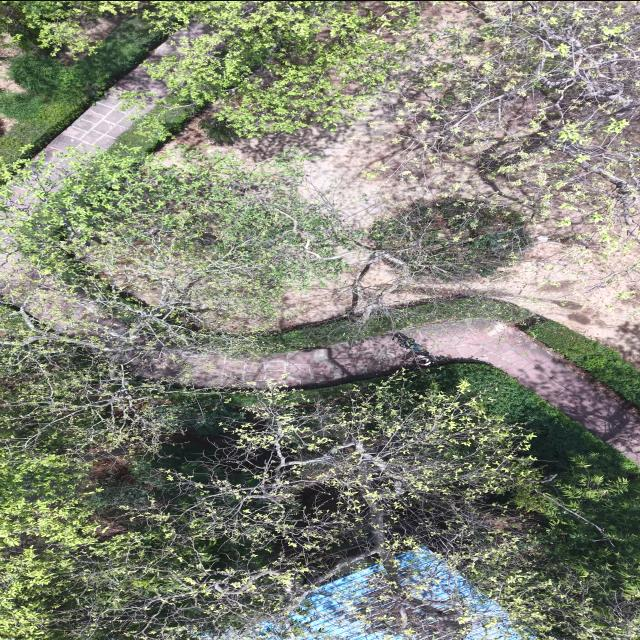DRY_AREA: (157, 86, 639, 367), (115, 320, 639, 463), (356, 193, 639, 367), (160, 101, 512, 226), (365, 242, 639, 368), (447, 241, 639, 368), (35, 65, 167, 180), (140, 333, 417, 387), (36, 65, 167, 177), (140, 334, 415, 386), (39, 66, 167, 165), (40, 94, 135, 161), (80, 14, 129, 41), (0, 46, 24, 93), (0, 59, 25, 93)
VEGETATION_TREE: (0, 1, 638, 639), (2, 306, 637, 639), (7, 1, 637, 332), (2, 328, 637, 639), (6, 148, 528, 349), (139, 1, 637, 211), (367, 1, 638, 247), (7, 149, 368, 322), (413, 364, 637, 637), (142, 1, 420, 135), (146, 1, 418, 136), (0, 301, 178, 460), (2, 297, 185, 450), (411, 363, 638, 477), (0, 16, 165, 164), (256, 297, 532, 351), (370, 199, 530, 281), (526, 321, 639, 405), (2, 1, 140, 53), (112, 95, 202, 160)
